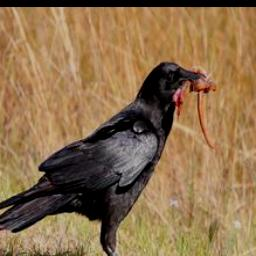Crow: (0, 53, 227, 256)
